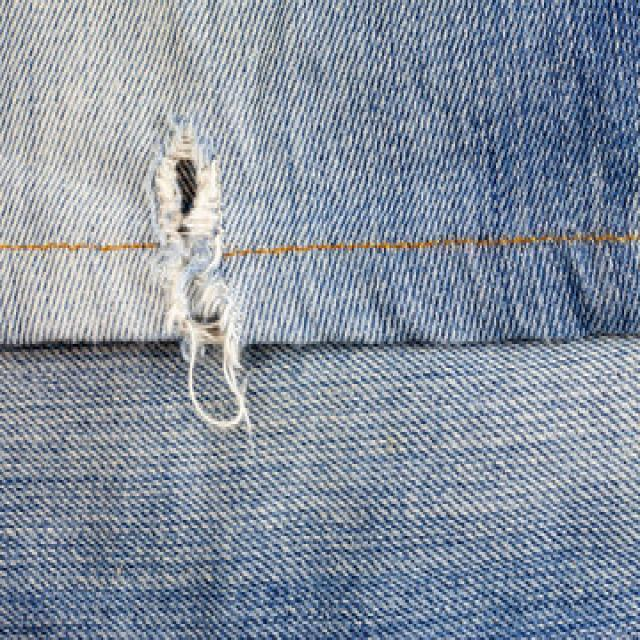Hole: (152, 118, 238, 352)
Line: (0, 325, 640, 357), (224, 234, 640, 258), (0, 241, 157, 252)
